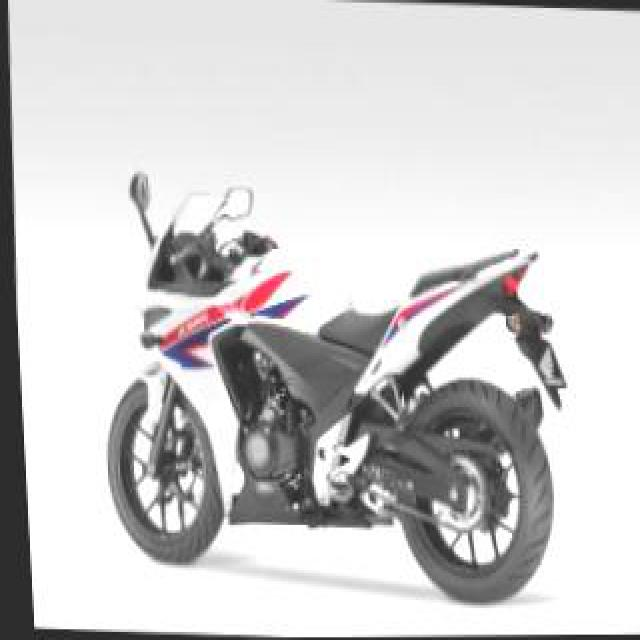CBR500R: (86, 176, 574, 606)
